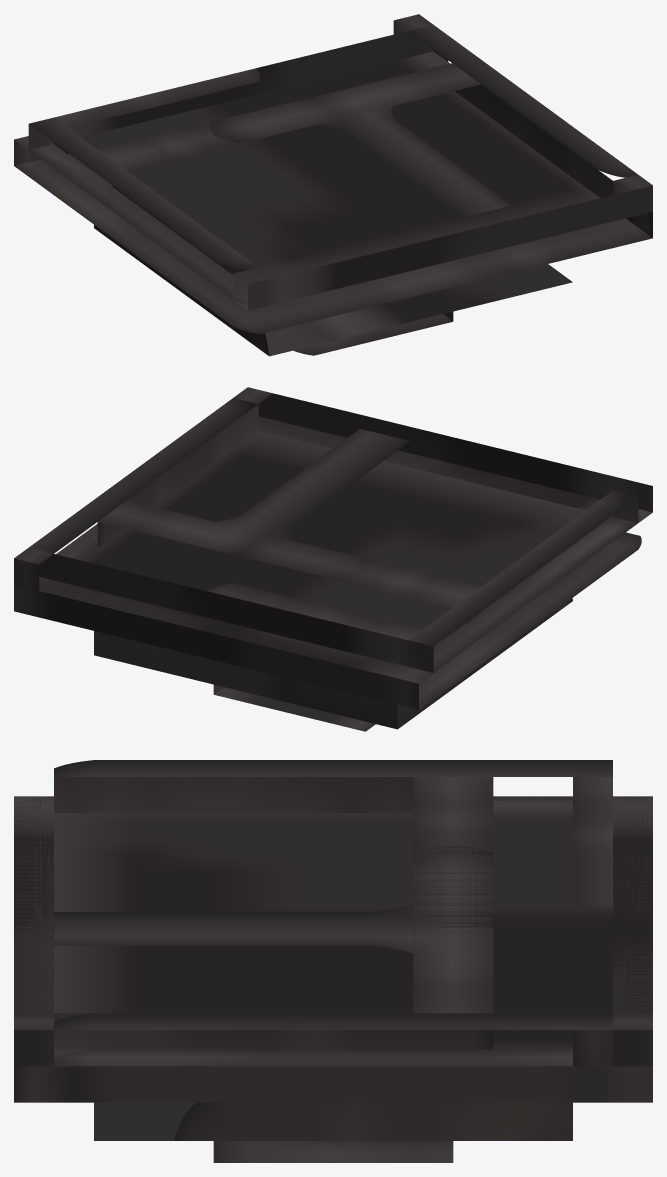
Rendered from air_grate.obj.
3 renders of one model, top to bottom at view 1: azimuth 30°, elevation 25°; view 2: azimuth 150°, elevation 25°; view 3: azimuth 270°, elevation 25°, orthographic. The views are drawn at different scales.
Bounding box in the file's own units: 1 × 0.375 × 1.
